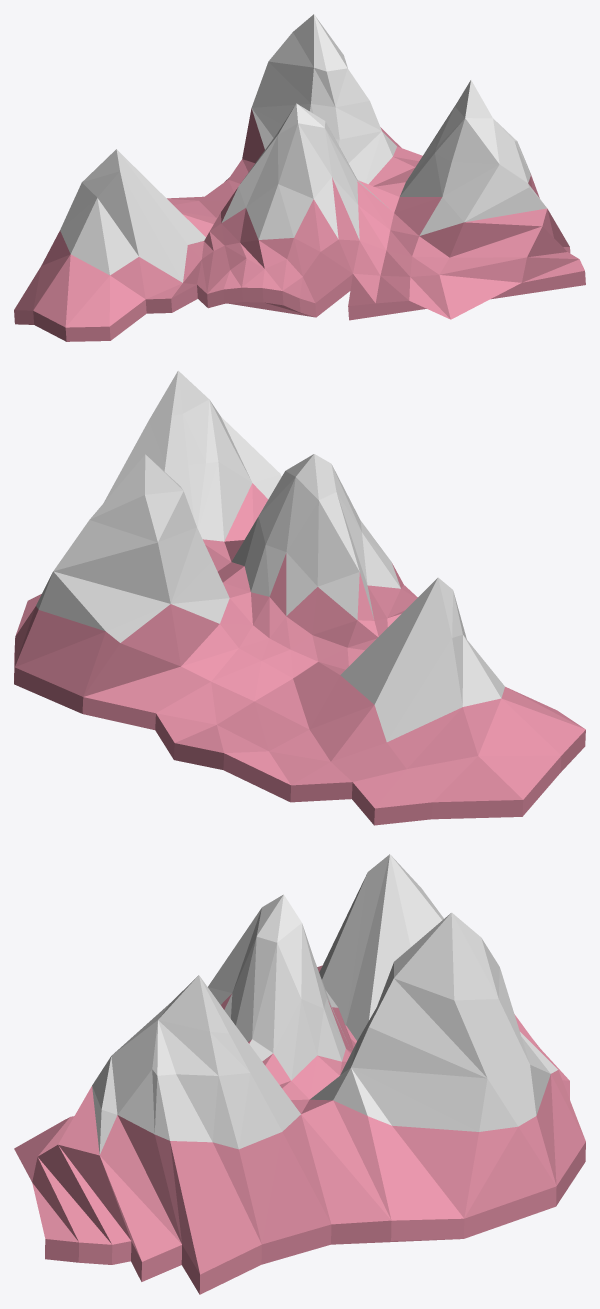
The model's file is huiTerrain2_02.fbx.
The picture shows the model from 3 angles, top to bottom: view 1: azimuth 30°, elevation 25°; view 2: azimuth 150°, elevation 25°; view 3: azimuth 270°, elevation 25°; orthographic projection. The views are drawn at different scales.
Parts seen in each view (by area): view 1: land.001; view 2: land.001; view 3: land.001.
Part boxes in pixels (left/top/right/bottom): land.001: left=14, top=14, right=585, bottom=341; land.001: left=14, top=370, right=585, bottom=825; land.001: left=14, top=854, right=585, bottom=1294.
Bounding box in the file's own units: 425 × 203 × 332.
